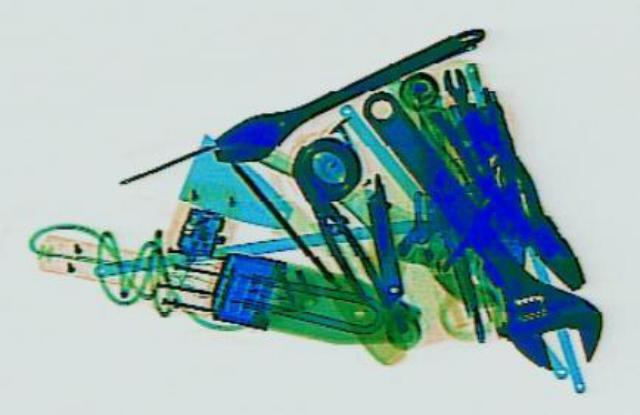Pliers: (421, 95, 611, 294), (288, 177, 394, 310)
Wrench: (322, 77, 630, 376), (188, 12, 504, 171), (436, 66, 480, 132)
